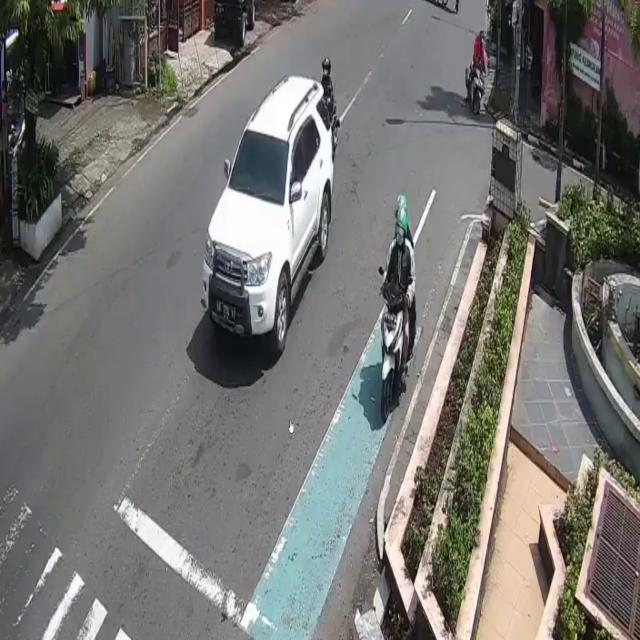car: (202, 76, 334, 353)
motorbike: (381, 282, 406, 419), (464, 60, 486, 124)
